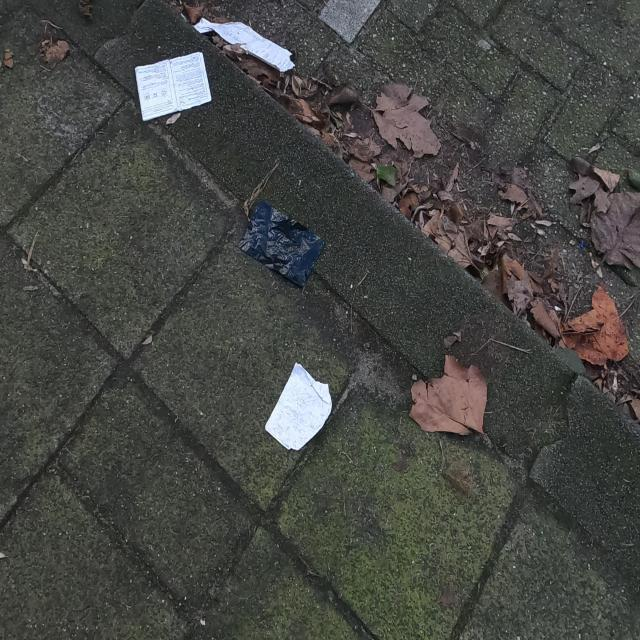Paper: (264, 360, 333, 452), (192, 15, 298, 74)
Plastic: (238, 196, 326, 290)
